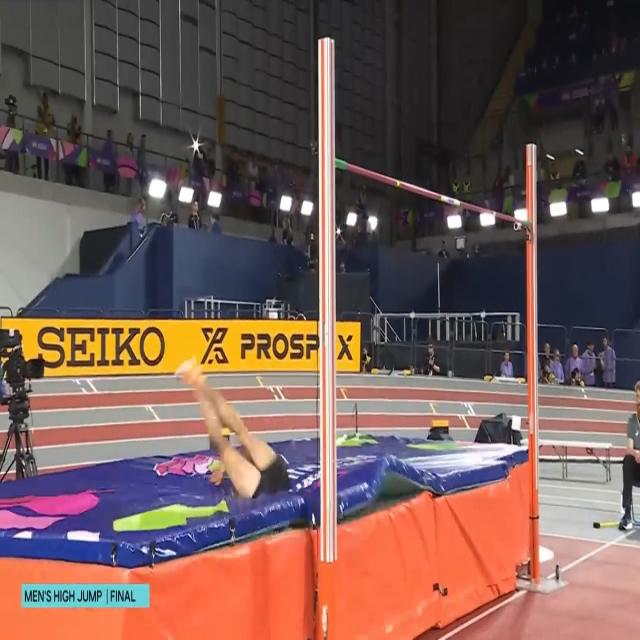land: (176, 356, 290, 498)
